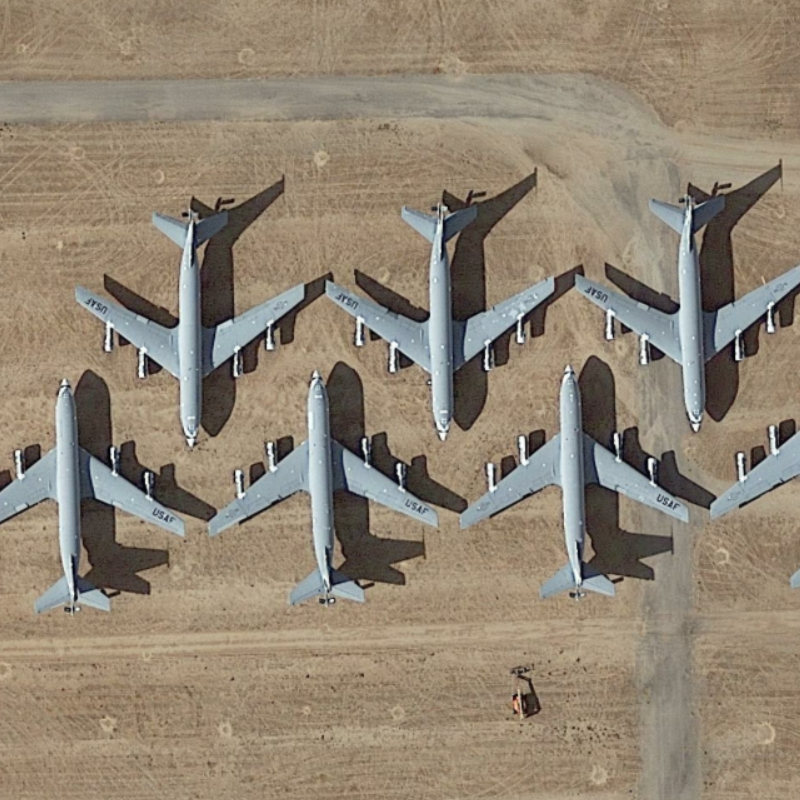A14: (320, 192, 562, 448), (73, 188, 310, 449), (569, 182, 800, 435), (454, 363, 695, 602), (207, 366, 449, 604), (1, 373, 189, 620)
